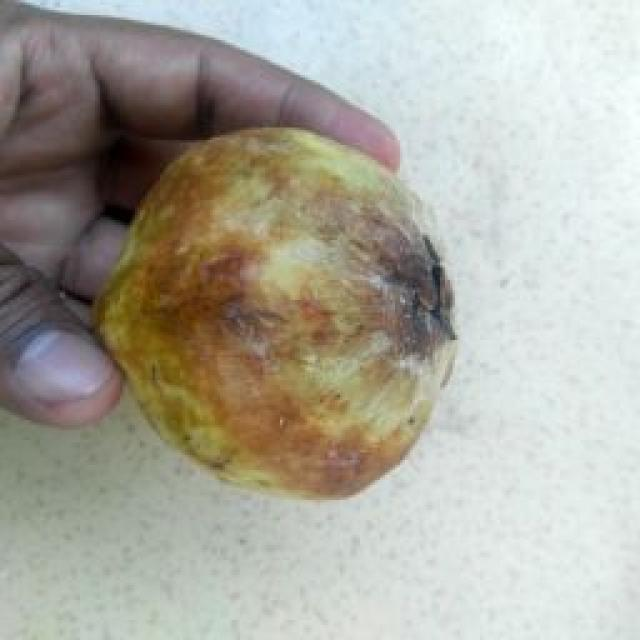Bad_Guava: (96, 129, 455, 496)
